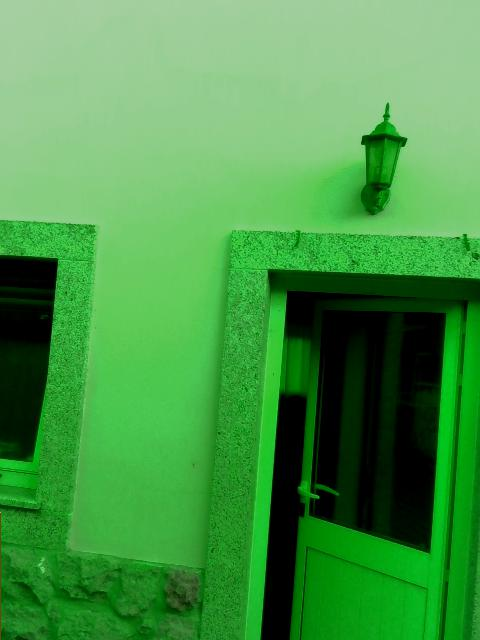semi_door: (243, 267, 479, 639)
